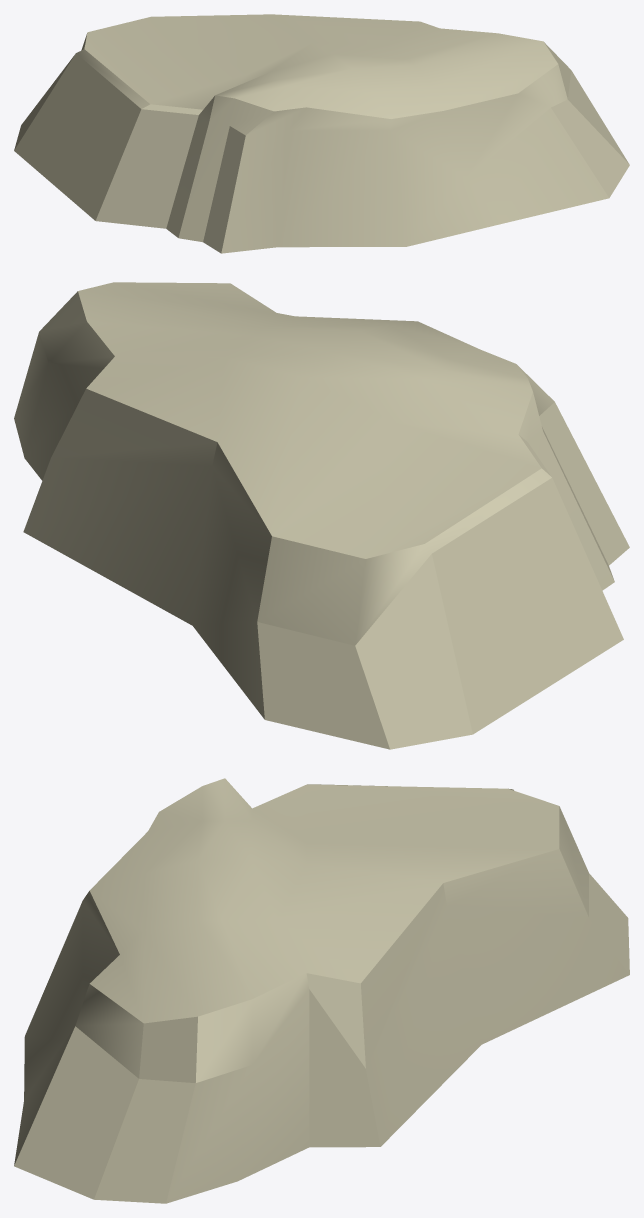
Rendered from islandtest.fbx.
3 views of the same model, one above another, from view 1: azimuth 30°, elevation 25°; view 2: azimuth 150°, elevation 25°; view 3: azimuth 270°, elevation 25° (orthographic). The views are drawn at different scales.
Visible parts, largest first — view 1: pPlane1; view 2: pPlane1; view 3: pPlane1.
Part boxes in pixels (x1=…): pPlane1: x1=14, y1=14, x2=629, y2=253; pPlane1: x1=14, y1=282, x2=629, y2=749; pPlane1: x1=14, y1=778, x2=629, y2=1203.
Size of the model in its own units: 27.54 by 7.4 by 22.84.
